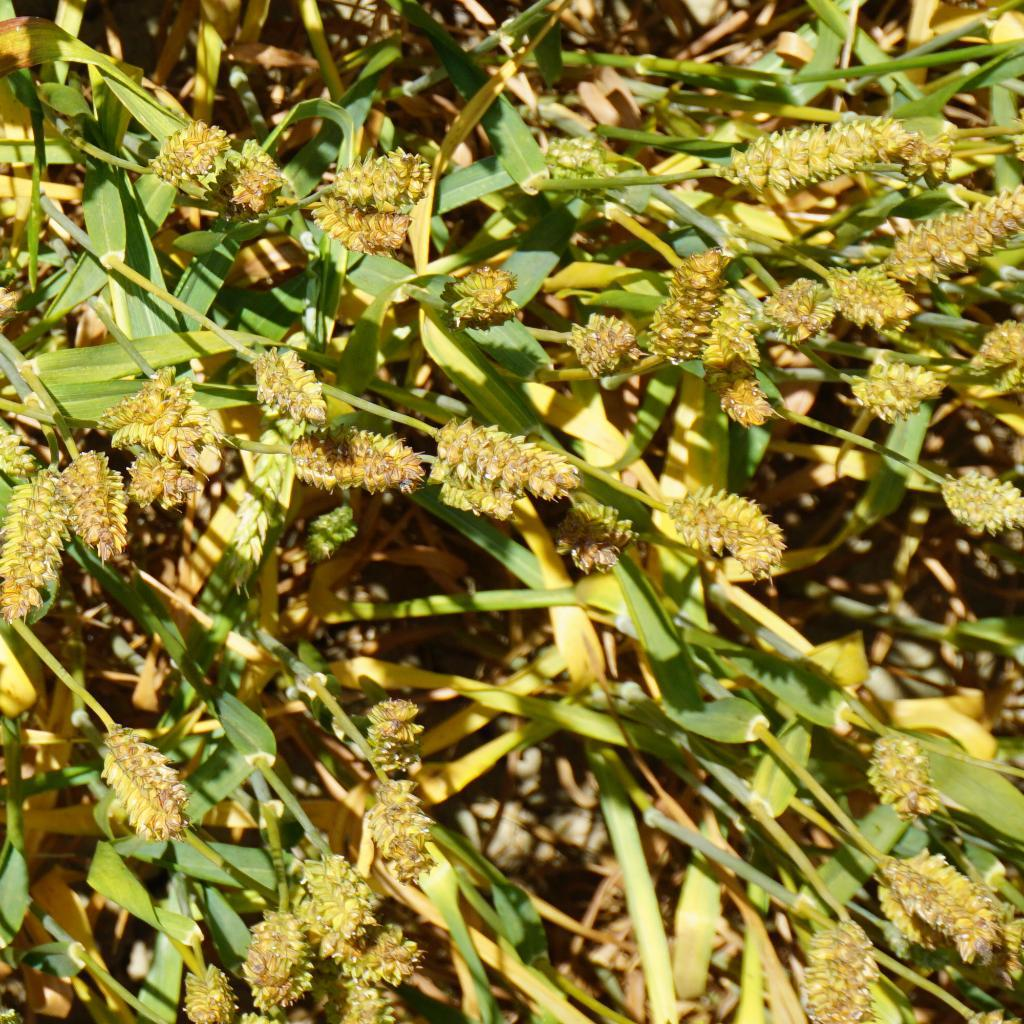0-0: (723, 113, 929, 194), (867, 183, 1024, 287), (687, 274, 778, 431), (93, 713, 195, 846), (225, 418, 296, 596), (0, 459, 73, 630), (873, 855, 1004, 947), (311, 892, 439, 985), (280, 422, 428, 499), (645, 245, 737, 367), (433, 421, 578, 495), (790, 920, 889, 1024), (545, 484, 638, 578), (676, 489, 785, 567), (61, 447, 132, 565), (429, 254, 531, 335), (920, 466, 1024, 542), (246, 338, 332, 427), (846, 358, 953, 428), (871, 726, 945, 826), (323, 153, 454, 209), (124, 439, 209, 525), (519, 128, 615, 203), (144, 115, 228, 200), (819, 259, 913, 334), (249, 908, 317, 1011), (566, 304, 644, 384), (296, 846, 373, 921), (118, 367, 192, 445), (358, 695, 430, 774), (376, 777, 435, 873), (319, 203, 418, 260), (225, 129, 284, 217), (960, 317, 1024, 397), (775, 273, 834, 345), (432, 473, 518, 522), (902, 129, 962, 198), (304, 505, 364, 569), (183, 957, 242, 1017), (0, 390, 36, 480), (335, 974, 398, 1024), (0, 283, 31, 364), (0, 255, 21, 299)
